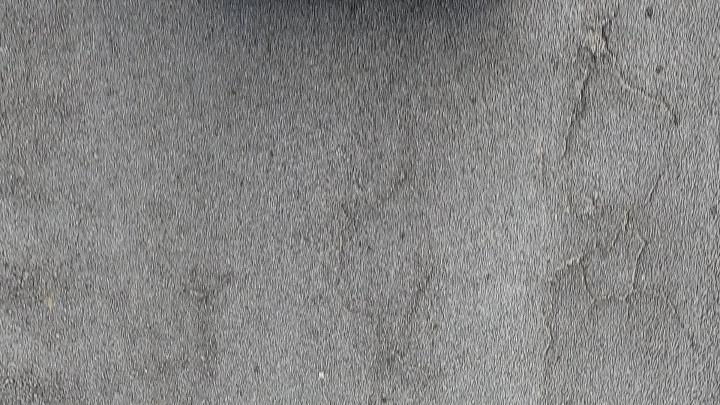Crack: (560, 19, 683, 158), (563, 24, 679, 157), (545, 204, 649, 308), (550, 204, 648, 296)
